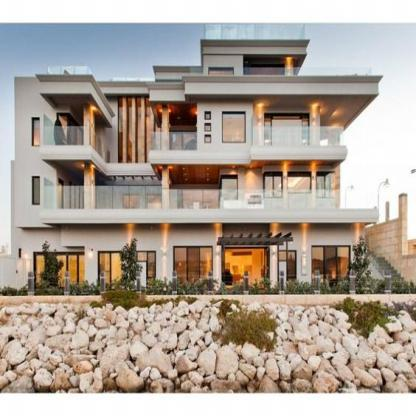Balcony: (44, 186, 362, 209), (191, 67, 374, 83), (252, 126, 343, 145), (205, 23, 304, 39), (149, 132, 197, 150), (44, 127, 90, 145), (48, 65, 88, 78)
Building Outline: (11, 23, 384, 296)
Cornice: (152, 39, 311, 72), (146, 76, 384, 89)
Door: (223, 248, 270, 293), (272, 114, 303, 146), (169, 130, 196, 163), (123, 194, 140, 219), (146, 194, 163, 219)
Facade: (11, 22, 384, 296)
Floor Slab: (35, 75, 116, 118), (146, 76, 384, 89), (44, 146, 161, 169), (44, 210, 362, 217), (151, 146, 344, 155), (201, 39, 311, 46)
Glass Wall: (98, 251, 157, 294), (33, 252, 92, 294), (173, 246, 213, 293), (312, 245, 351, 292), (245, 64, 285, 94), (57, 113, 87, 152), (279, 250, 296, 293)
Pillar: (83, 103, 94, 209), (162, 102, 169, 209)
Window: (222, 111, 246, 142), (209, 67, 234, 94), (316, 171, 335, 198), (288, 171, 311, 193), (222, 175, 239, 200), (265, 172, 282, 197), (162, 98, 167, 164), (136, 98, 141, 164), (145, 98, 150, 164), (302, 113, 310, 147), (118, 98, 122, 164), (127, 98, 131, 164), (155, 98, 159, 164), (32, 117, 40, 147), (32, 176, 40, 205), (265, 114, 271, 147), (204, 135, 211, 143), (204, 111, 211, 119), (204, 123, 211, 131)
